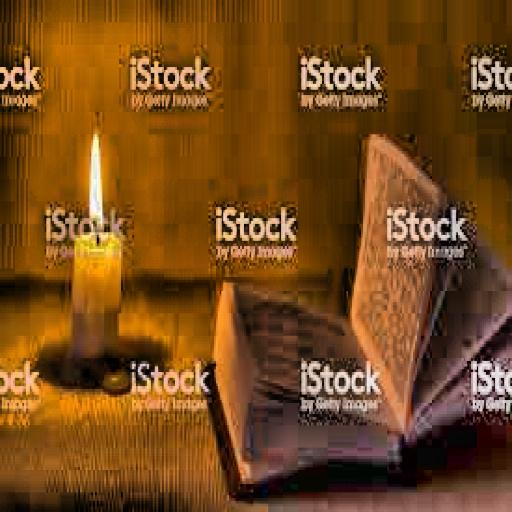fire: (84, 126, 112, 232)
